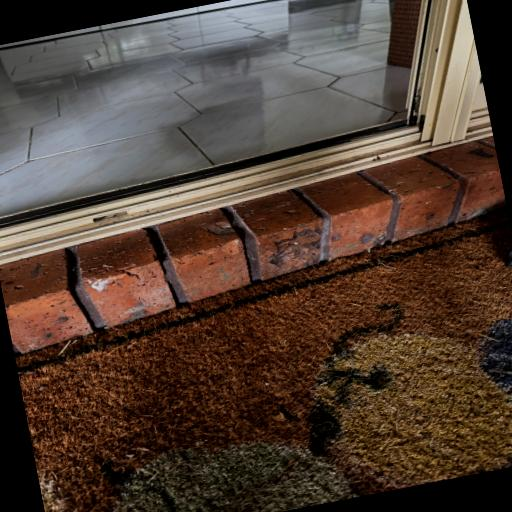step: (0, 124, 504, 352)
